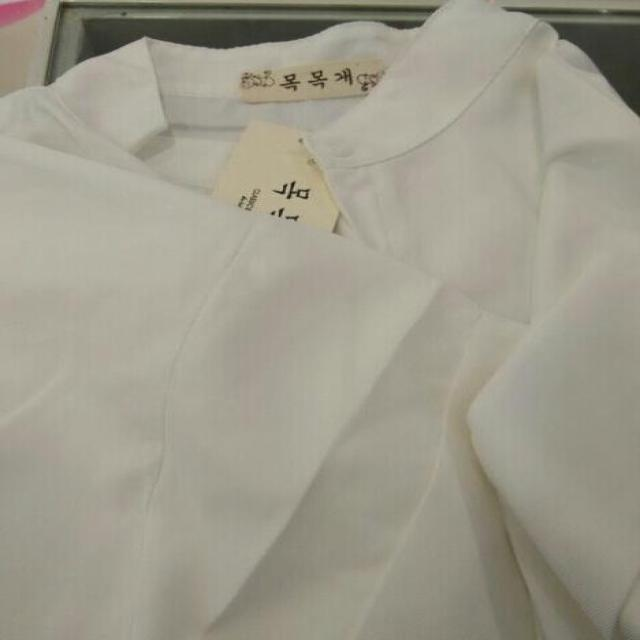long sleeve top: (4, 2, 636, 326), (469, 326, 613, 635)
